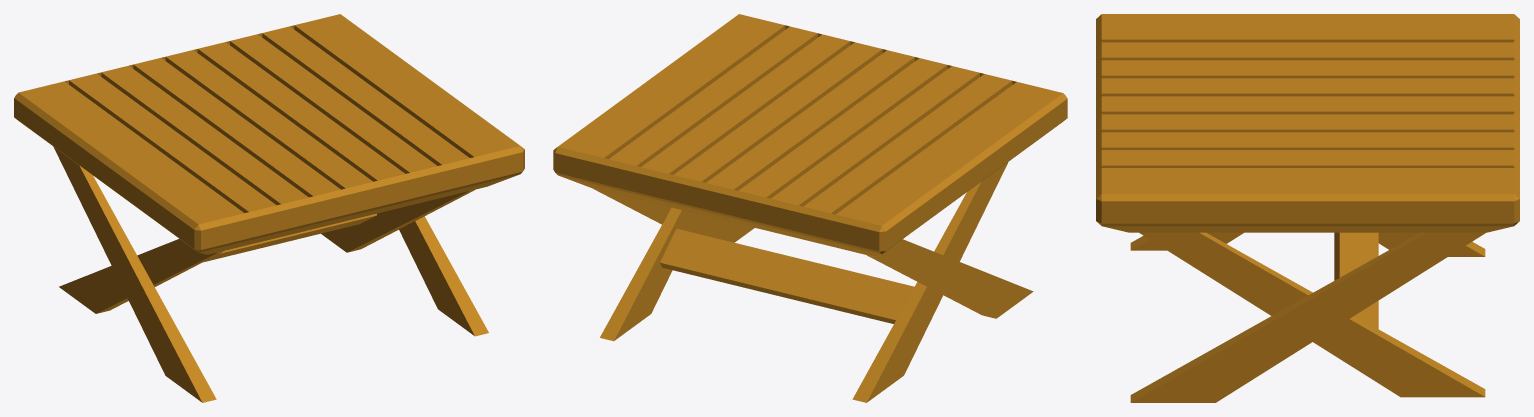
The model's file is SantaMargaretConceptMesa.fbx.
3 renders of one model, left to right at view 1: azimuth 30°, elevation 25°; view 2: azimuth 150°, elevation 25°; view 3: azimuth 270°, elevation 25°, orthographic. The views are drawn at different scales.
Visible parts, largest first — view 1: Cube.141; view 2: Cube.141; view 3: Cube.141.
Boxes of the visible parts, x1,y1,x2,y2 form: Cube.141: [14, 14, 524, 402]; Cube.141: [553, 14, 1067, 402]; Cube.141: [1096, 14, 1519, 402].
Bounding box in the file's own units: 1244 × 690 × 1206.
